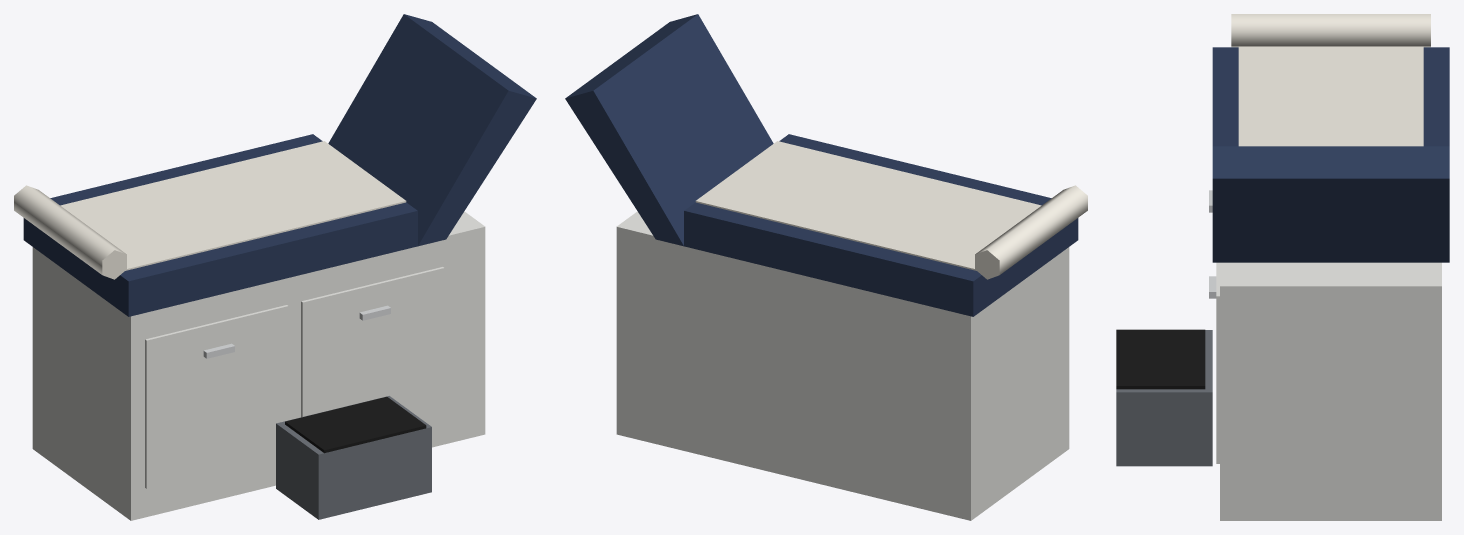
Rendered from exam_table.glb.
The picture shows the model from 3 angles, left to right: view 1: azimuth 30°, elevation 25°; view 2: azimuth 150°, elevation 25°; view 3: azimuth 270°, elevation 25°; orthographic projection. The views are drawn at different scales.
Parts seen in each view (by area): view 1: exam_table; view 2: exam_table; view 3: exam_table.
Part boxes in pixels (x1,y1,x2,y2): exam_table: (14,14,536,520); exam_table: (565,14,1087,520); exam_table: (1116,14,1449,520).
Size of the model in its own units: 1.5 by 1.15 by 0.9.
Materials: 1 (1 with a texture image).
